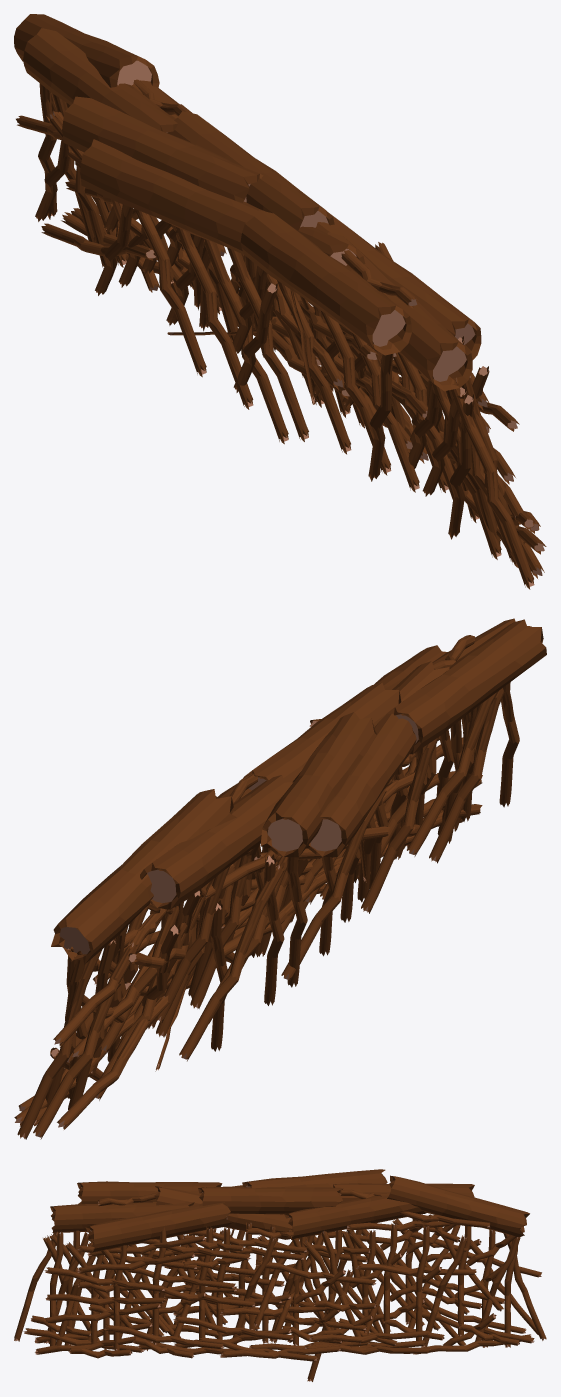
Rendered from Dam lvl 1.fbx.
3 renders of one model, top to bottom at view 1: azimuth 30°, elevation 25°; view 2: azimuth 150°, elevation 25°; view 3: azimuth 270°, elevation 25°, orthographic. The views are drawn at different scales.
Visible parts, largest first — view 1: Cylinder.117; view 2: Cylinder.117; view 3: Cylinder.117.
Part boxes in pixels (box(x1,y1,x2,y2)): Cylinder.117: box(14, 14, 546, 589); Cylinder.117: box(14, 618, 546, 1139); Cylinder.117: box(14, 1169, 546, 1381).
Size of the model in its own units: 1107 by 1519 by 3922.
